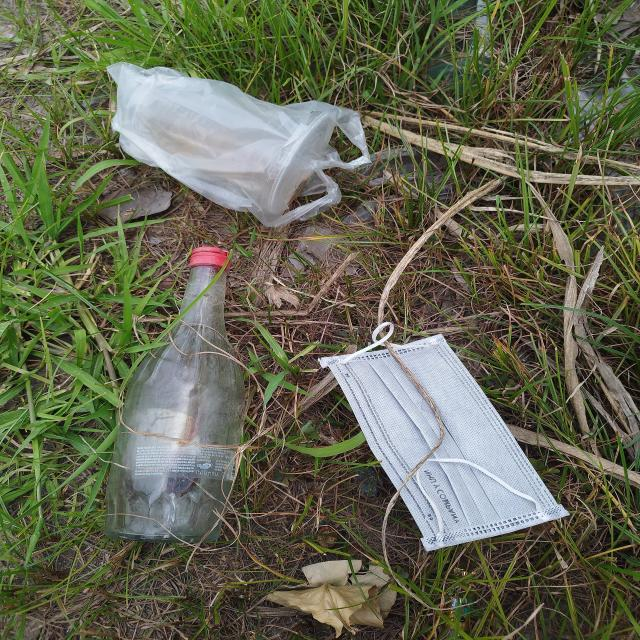bottle: (105, 245, 248, 542)
mask: (319, 322, 570, 551)
trash bag: (106, 62, 370, 228)
